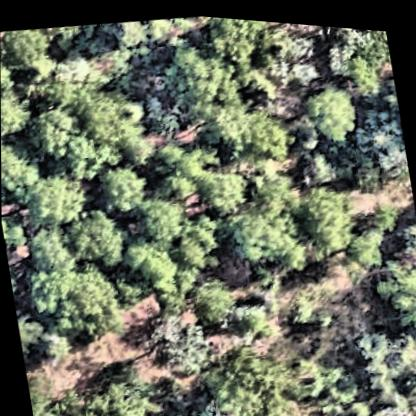tree-top: (159, 28, 258, 157), (56, 347, 191, 416), (22, 255, 127, 341), (203, 327, 298, 416), (140, 302, 214, 380), (13, 166, 90, 233), (318, 20, 388, 93), (295, 169, 355, 252), (58, 203, 126, 272), (73, 82, 147, 144), (298, 70, 360, 142), (367, 250, 416, 339), (18, 215, 80, 280), (230, 203, 300, 260), (22, 97, 82, 163), (85, 151, 148, 212), (0, 22, 59, 84), (193, 158, 252, 219), (244, 97, 298, 163), (55, 125, 123, 177), (135, 184, 187, 249), (183, 267, 236, 325), (204, 13, 262, 66), (363, 328, 416, 385), (128, 243, 181, 295), (343, 217, 393, 270), (1, 138, 36, 200), (223, 297, 272, 336), (31, 324, 73, 366), (1, 87, 31, 141), (27, 381, 66, 416), (0, 47, 15, 103)
